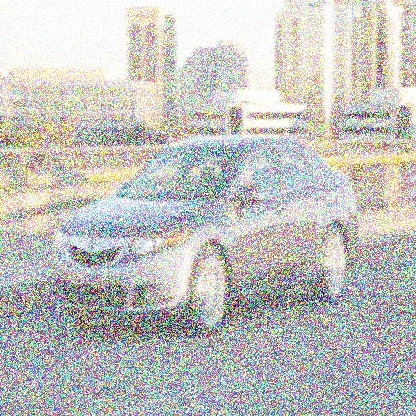Vehicle: (51, 138, 360, 336)
